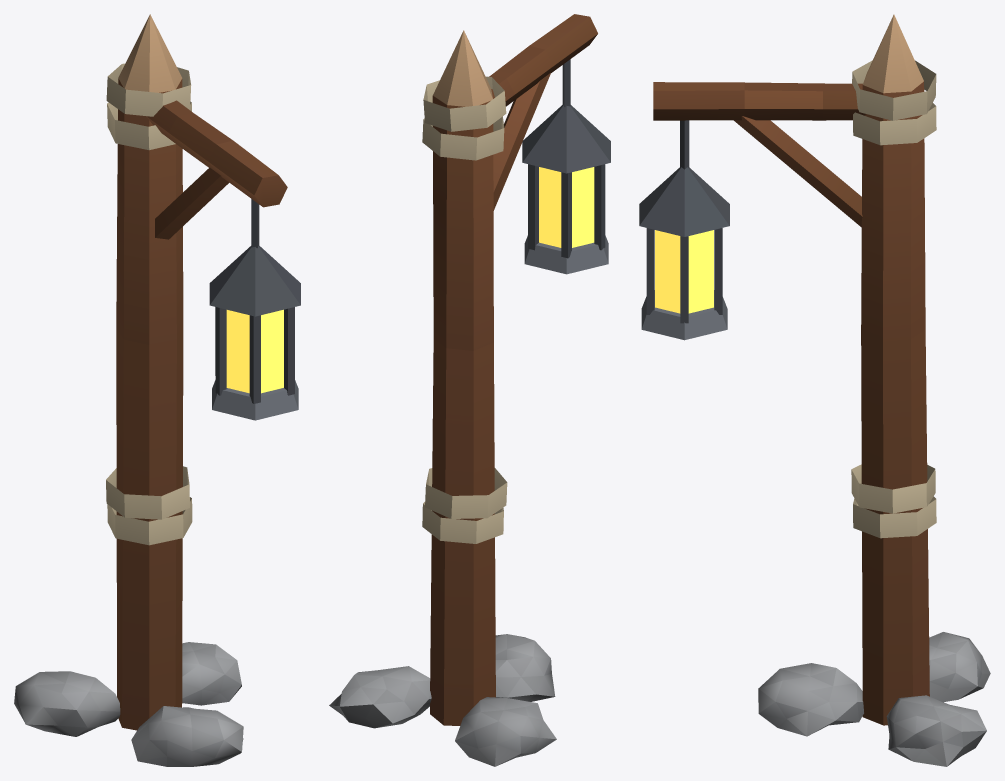
Rendered from muster_lantern_post.glb.
3 renders of one model, left to right at view 1: azimuth 30°, elevation 25°; view 2: azimuth 150°, elevation 25°; view 3: azimuth 270°, elevation 25°, orthographic. The views are drawn at different scales.
Parts seen in each view (by area): view 1: MusterLanternPostBody; view 2: MusterLanternPostBody; view 3: MusterLanternPostBody.
Part boxes in pixels (x1,y1,x2,y2): MusterLanternPostBody: (14,14,300,766); MusterLanternPostBody: (329,14,610,766); MusterLanternPostBody: (639,14,990,766).
Bounding box in the file's own units: 0.9757 × 2.95 × 1.34.
